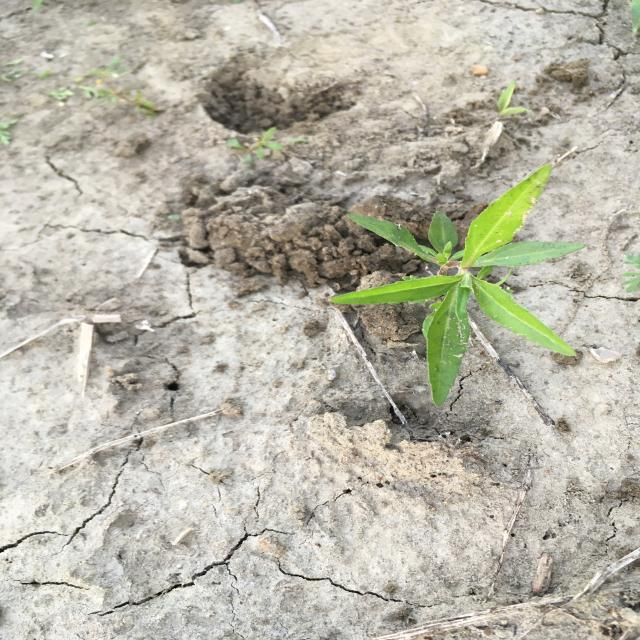Eclipta: (323, 161, 590, 411)
